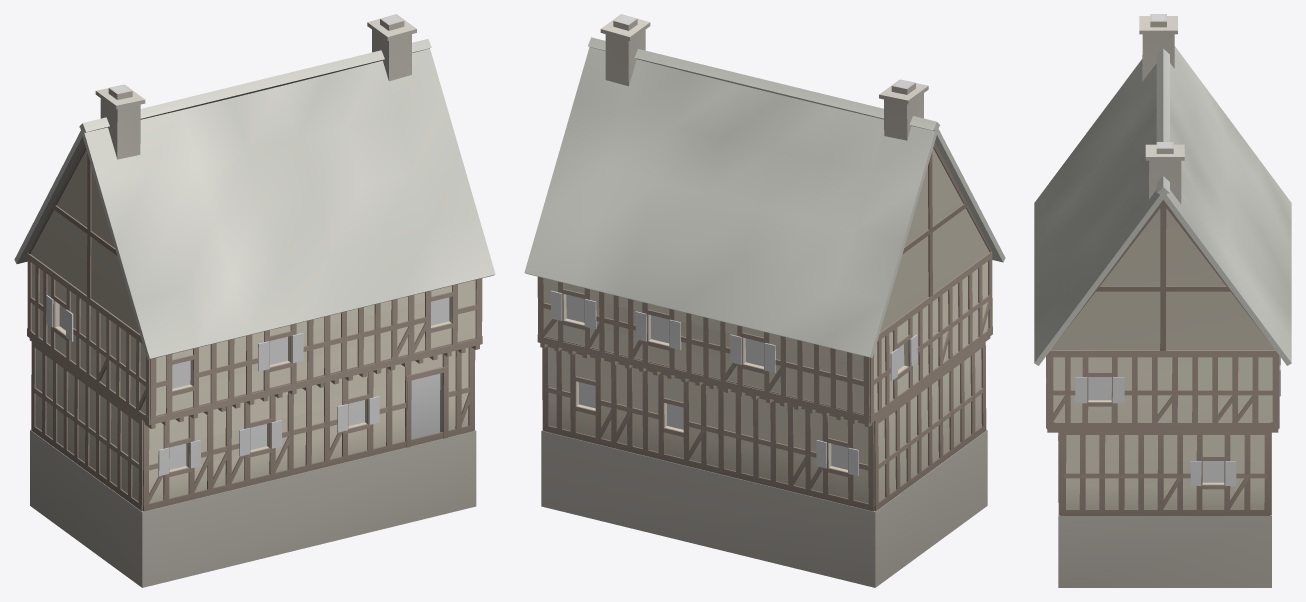
The model's file is timber_0.glb.
3 views of the same model, side by side, from view 1: azimuth 30°, elevation 25°; view 2: azimuth 150°, elevation 25°; view 3: azimuth 270°, elevation 25° (orthographic). The views are drawn at different scales.
Visible parts, largest first — view 1: timber_0; view 2: timber_0; view 3: timber_0.
Boxes of the visible parts, x1,y1,x2,y2 form: timber_0: (14, 14, 495, 587); timber_0: (524, 14, 1005, 587); timber_0: (1034, 14, 1291, 587).
Bounding box in the file's own units: 11.26 × 14.06 × 7.63.
